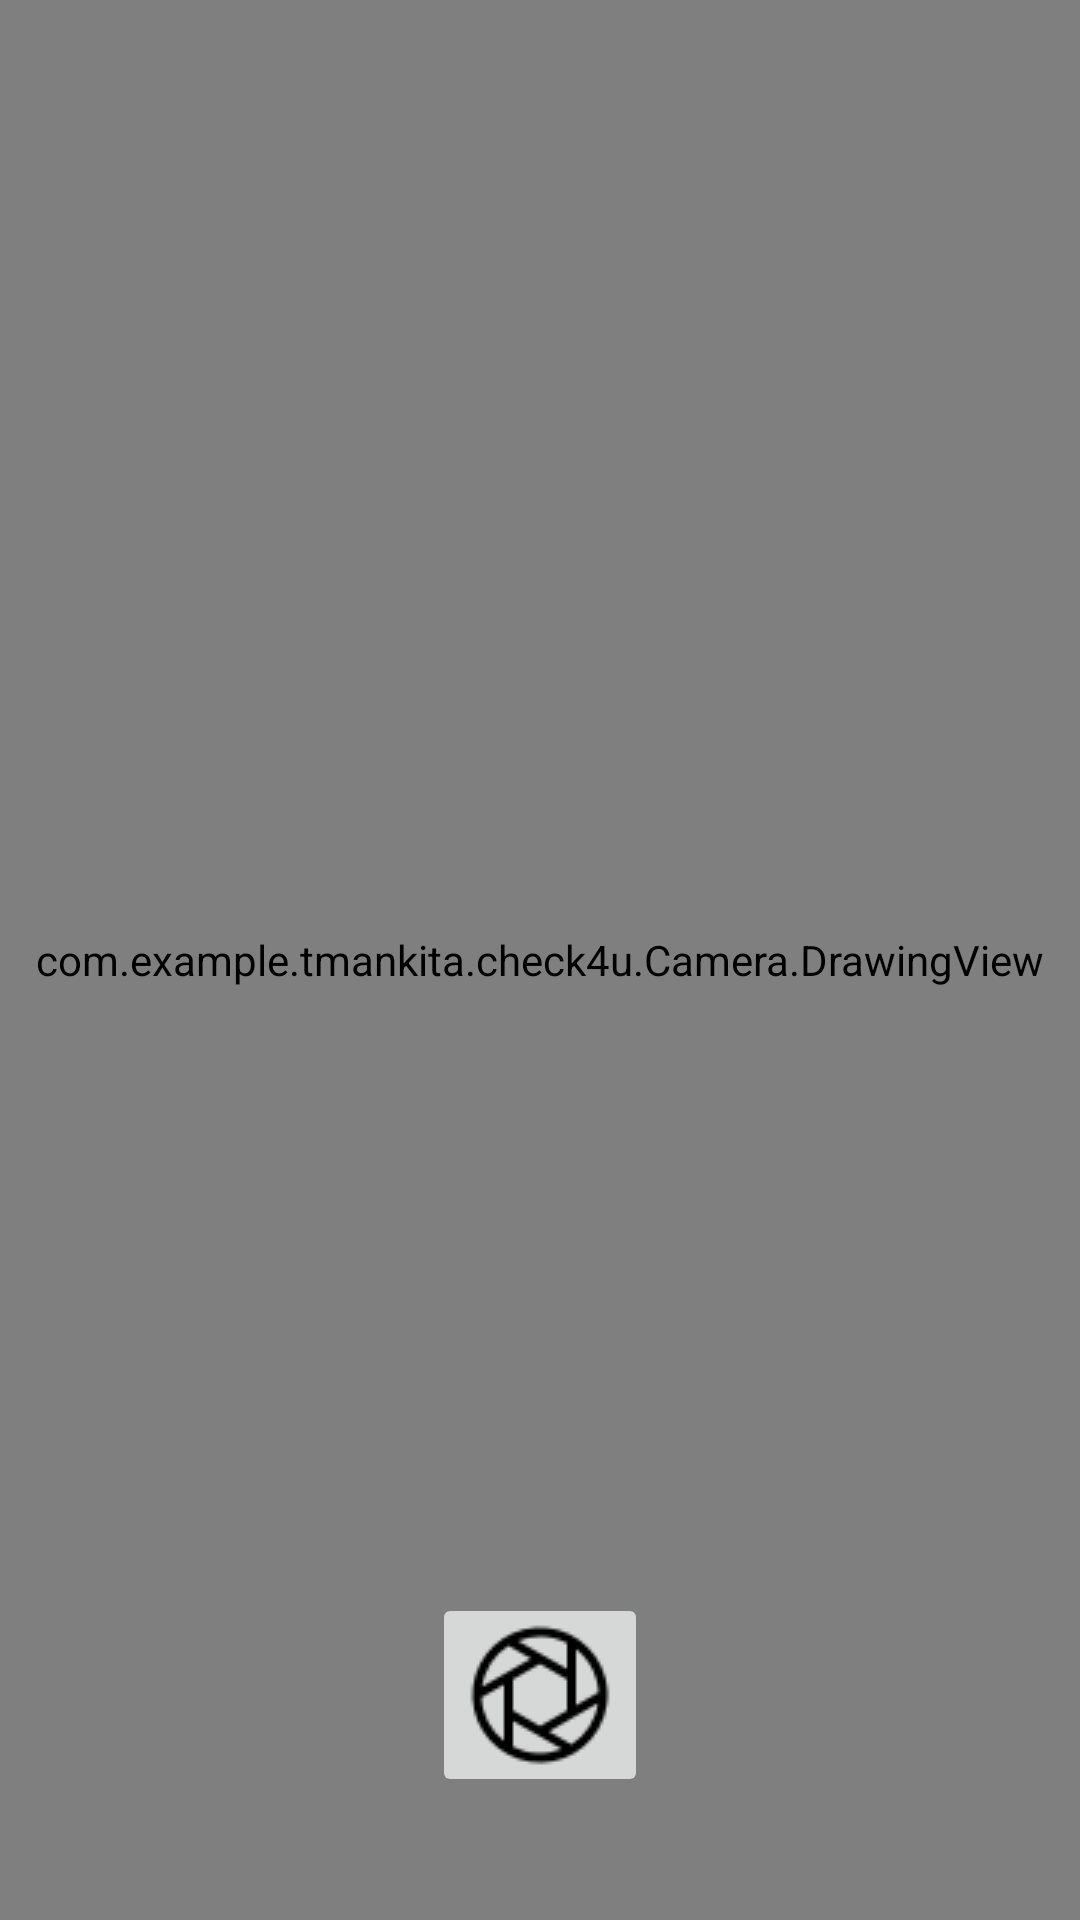

Icons on this 1080×1920 Android screen, each with the point to tap as (x,y):
aperture camera: (540,1695)
